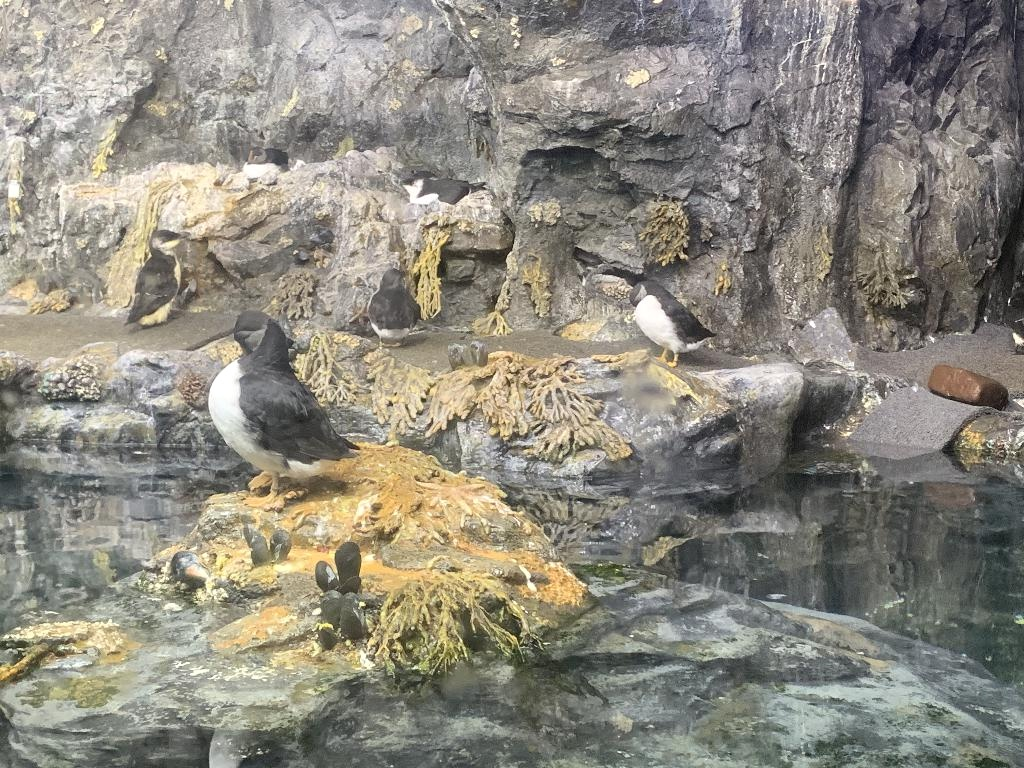puffin: (202, 308, 362, 510), (626, 278, 720, 368), (124, 228, 186, 328), (366, 267, 424, 349), (402, 169, 486, 207), (161, 544, 213, 596), (242, 146, 290, 178)
